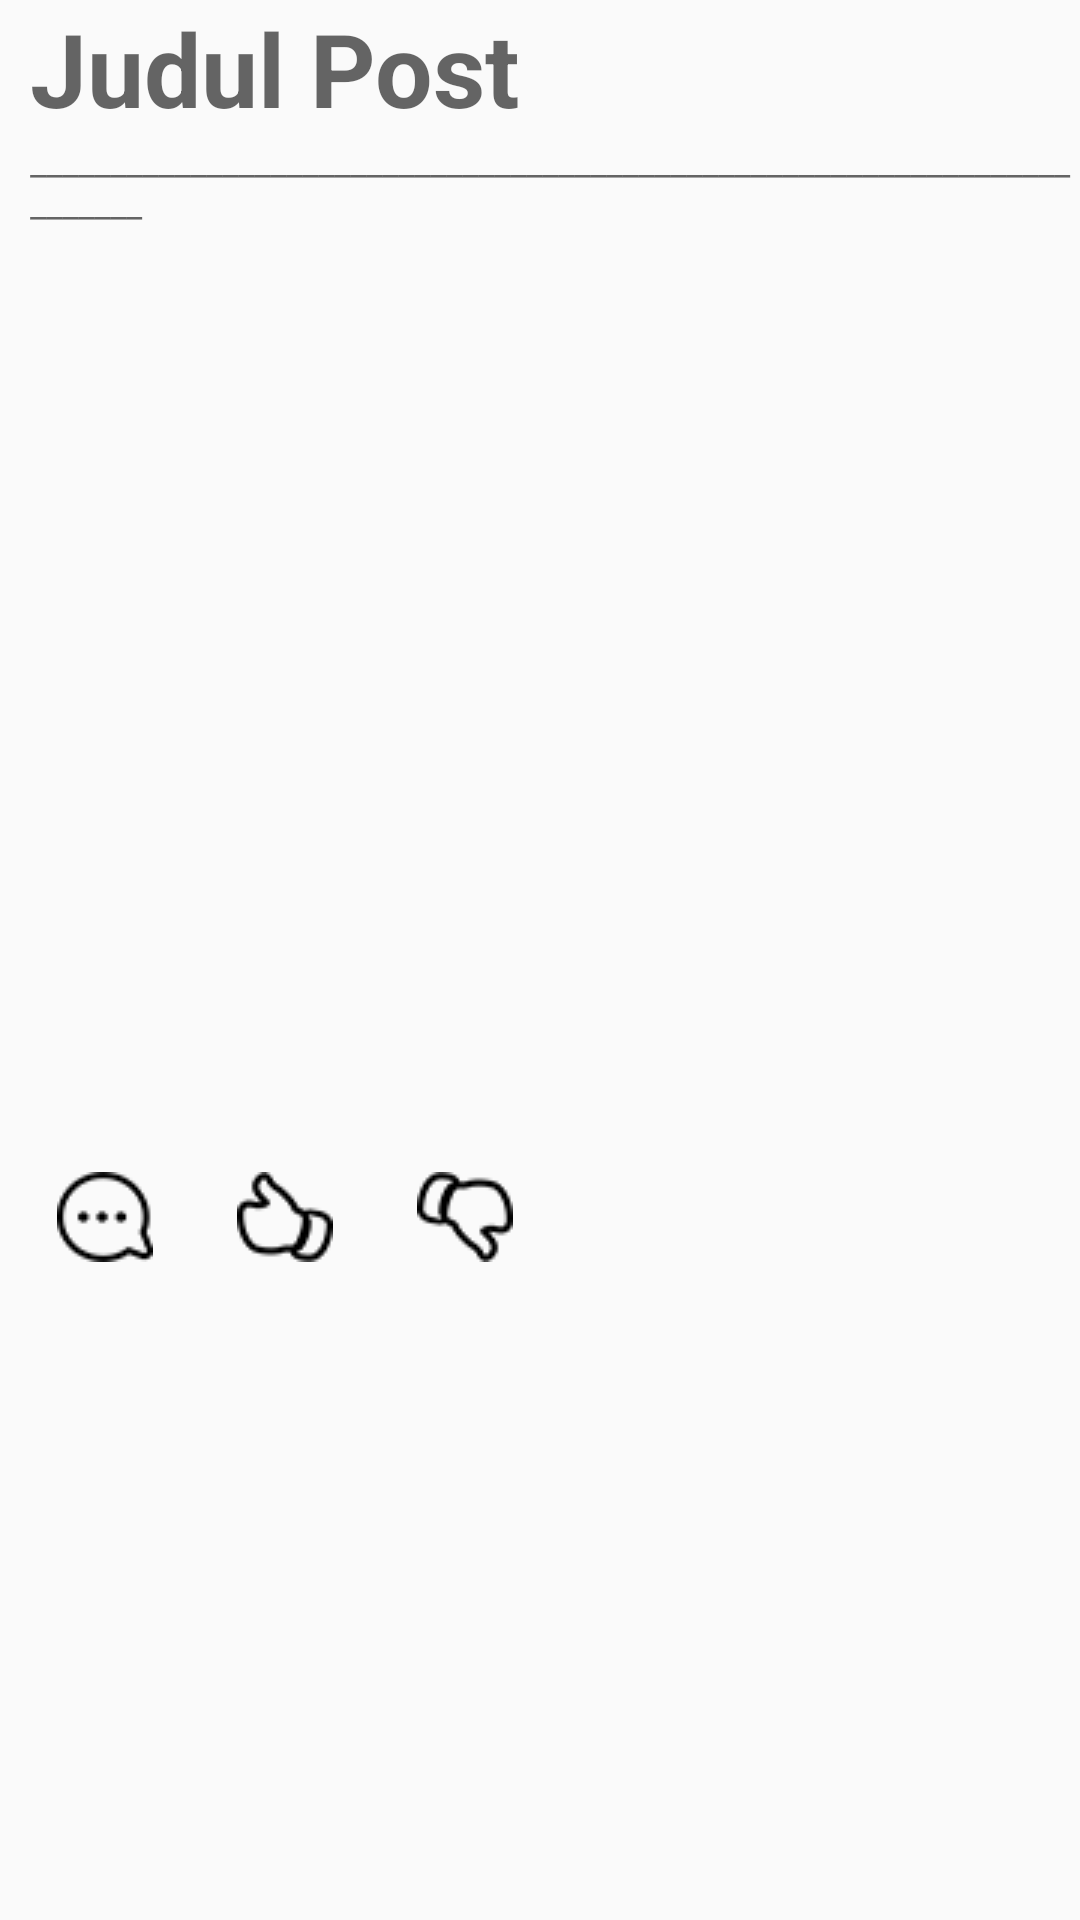

Named icons in this screenshot (1080×1920) and their centers, [x,y]:
comment: [105,1217]
dislike: [465,1217]
like: [285,1217]
